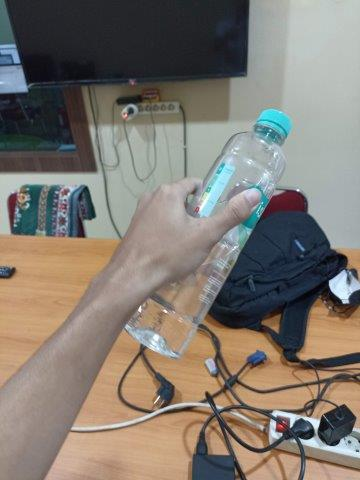botolplastik: (125, 108, 292, 359)
